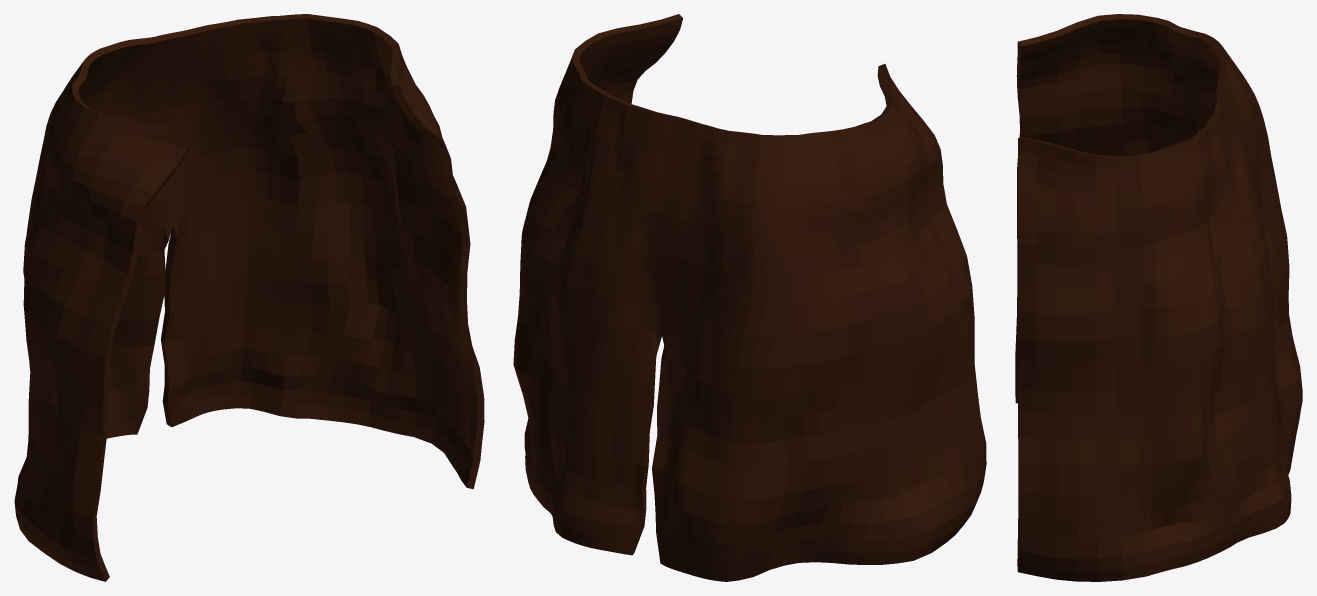
Rendered from waistClothTestNoRef.fbx.
3 views of the same model, side by side, from view 1: azimuth 30°, elevation 25°; view 2: azimuth 150°, elevation 25°; view 3: azimuth 270°, elevation 25° (orthographic). The views are drawn at different scales.
Parts seen in each view (by area): view 1: waistCape; view 2: waistCape; view 3: waistCape.
Part boxes in pixels (bbox=[...]): waistCape: bbox=[14, 14, 484, 581]; waistCape: bbox=[513, 14, 986, 581]; waistCape: bbox=[1015, 14, 1302, 581].
Size of the model in its own units: 361 by 355 by 227.
